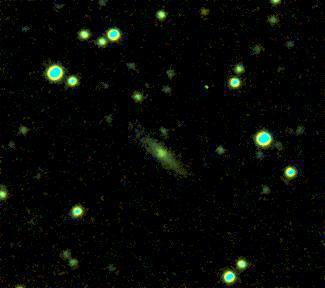star: (195, 0, 225, 29)
